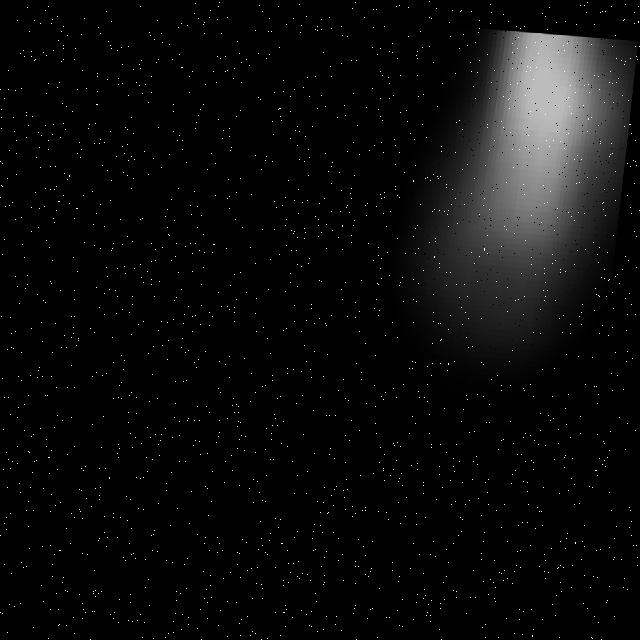person: (371, 18, 640, 434)
